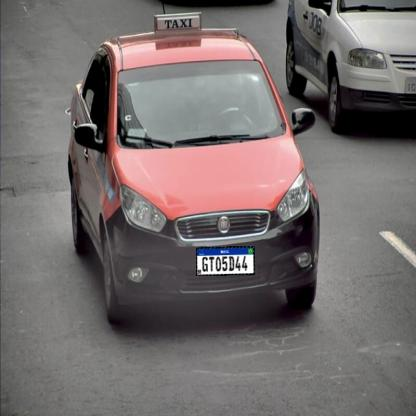PlacaM: (196, 246, 255, 276)
